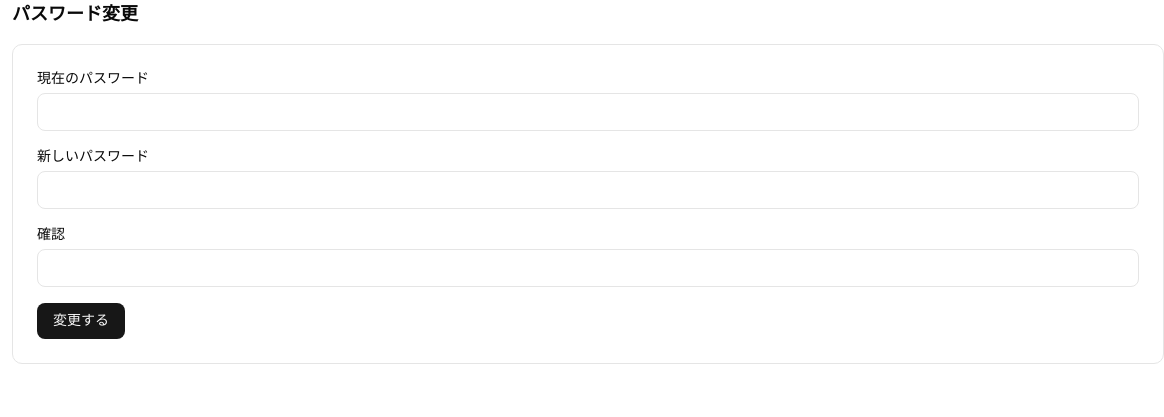
PasswordChangeForm › 新しいパスワードが8文字未満のときバリデーションエラーを表示する
Step 1. Type "oldpass" into the password field labelled "現在のパスワード" → (588, 112), box [37,93,1139,131]
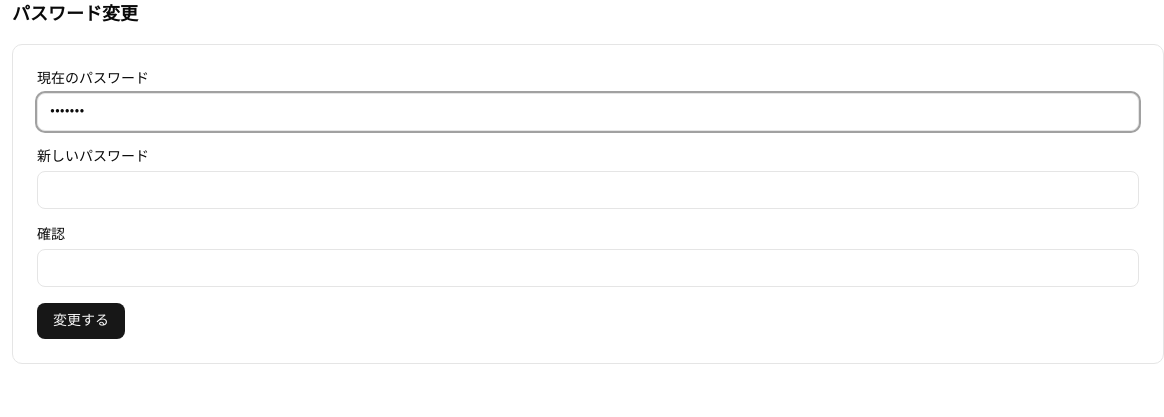
Step 2. Type "short" into the password field labelled "新しいパスワード" → (588, 190), box [37,171,1139,209]
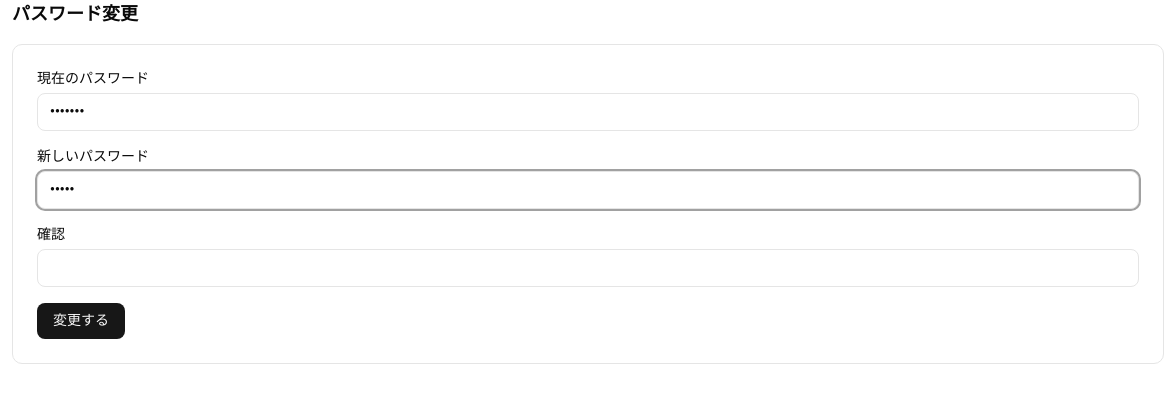
Step 3. Type "short" into the password field labelled "確認" → (588, 268), box [37,249,1139,287]
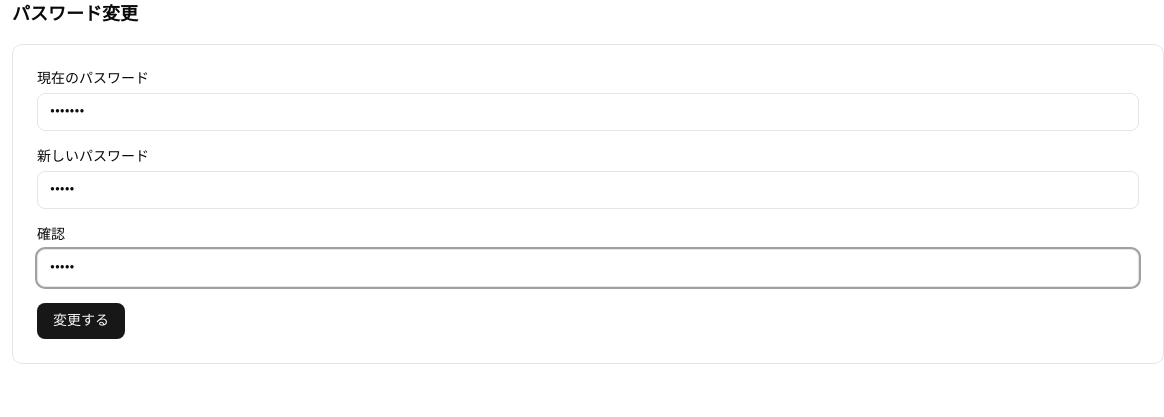
Step 4. Click the button "変更する" → (81, 321), box [37,303,125,339]
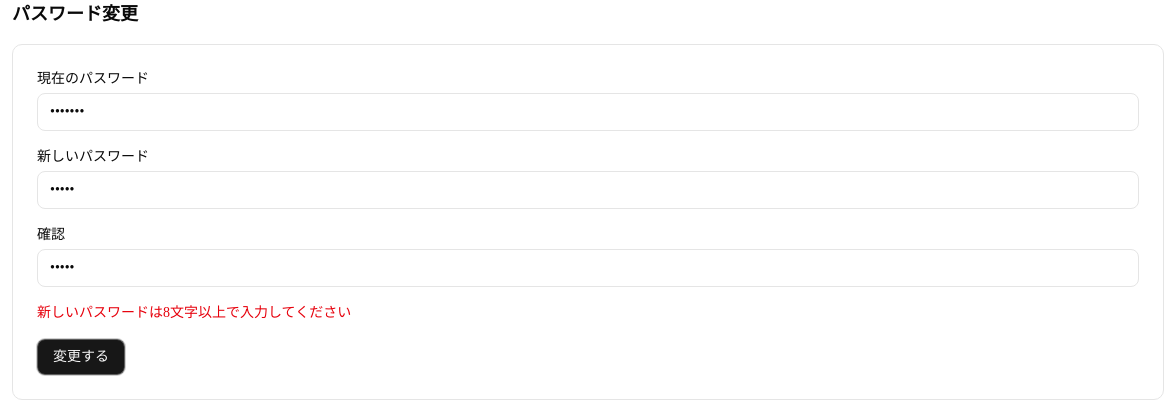
Expected: the message reads "新しいパスワードは8文字以上で入力してください", [37,305,351,320]
